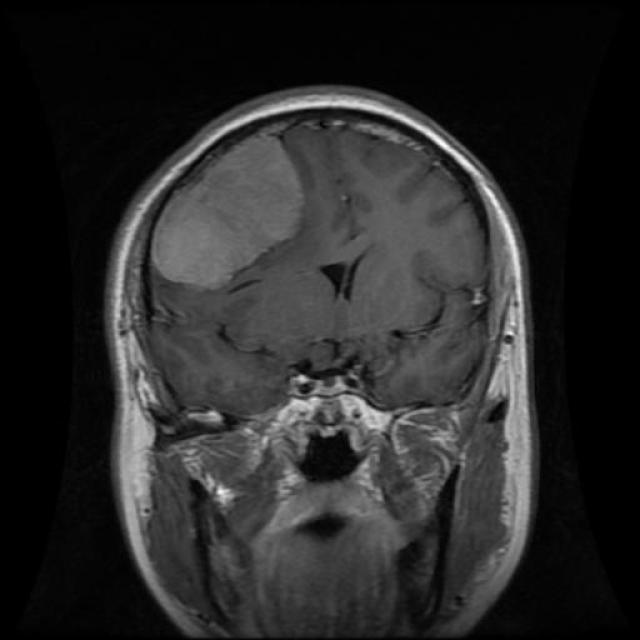meningioma: (151, 120, 301, 286)
